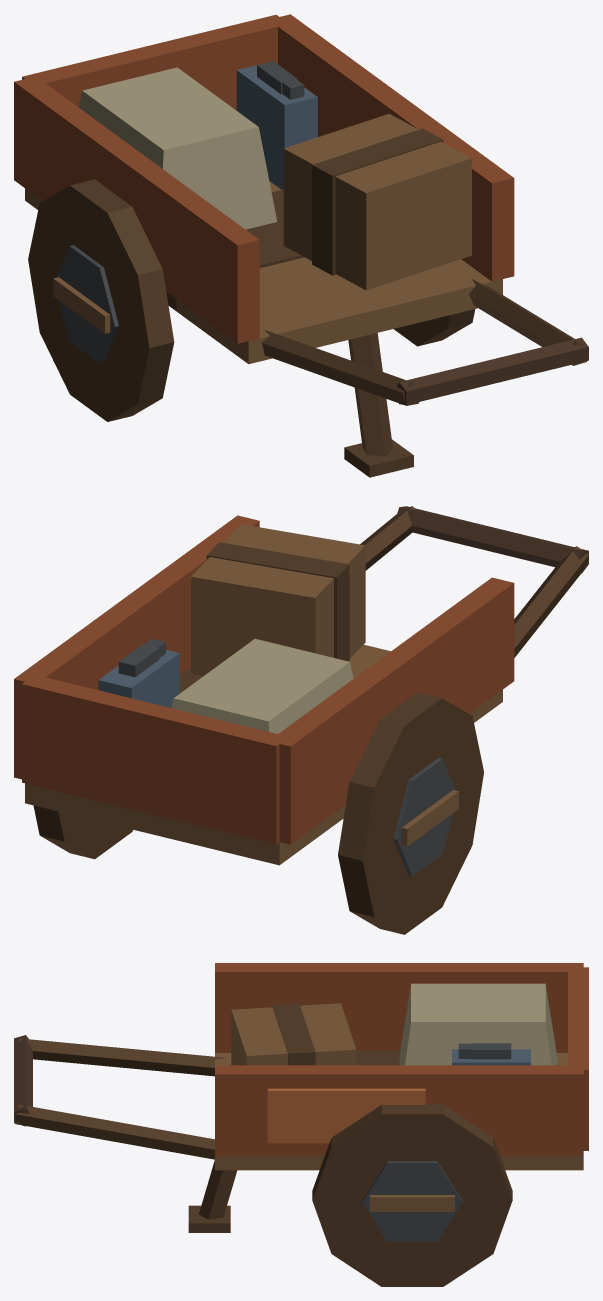
The model's file is vehicle_handcart_l2.glb.
The picture shows the model from 3 angles, top to bottom: view 1: azimuth 30°, elevation 25°; view 2: azimuth 150°, elevation 25°; view 3: azimuth 270°, elevation 25°; orthographic projection. The views are drawn at different scales.
Visible parts, largest first — view 1: body, wheel_r, wheel_l; view 2: body, wheel_r, wheel_l; view 3: body, wheel_l.
Boxes of the visible parts, x1,y1,x2,y2 form: body: (14, 14, 588, 477); wheel_r: (28, 179, 174, 421); wheel_l: (394, 309, 475, 346); body: (14, 506, 588, 865); wheel_r: (338, 692, 483, 934); wheel_l: (33, 805, 132, 859); body: (14, 963, 588, 1232); wheel_l: (312, 1104, 512, 1286).
Bounding box in the file's own units: 1.28 × 0.9126 × 2.18.
